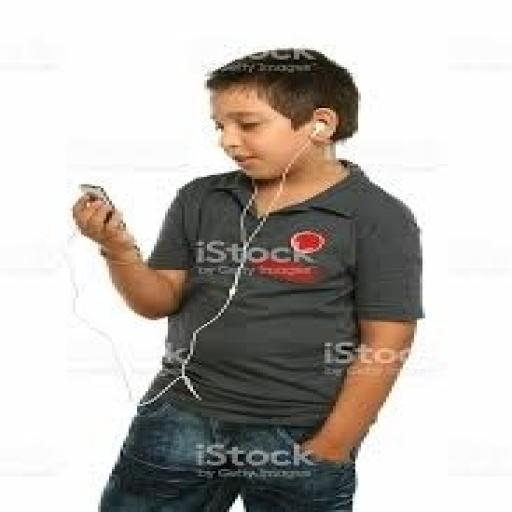listening_to_music: (70, 45, 428, 510)
